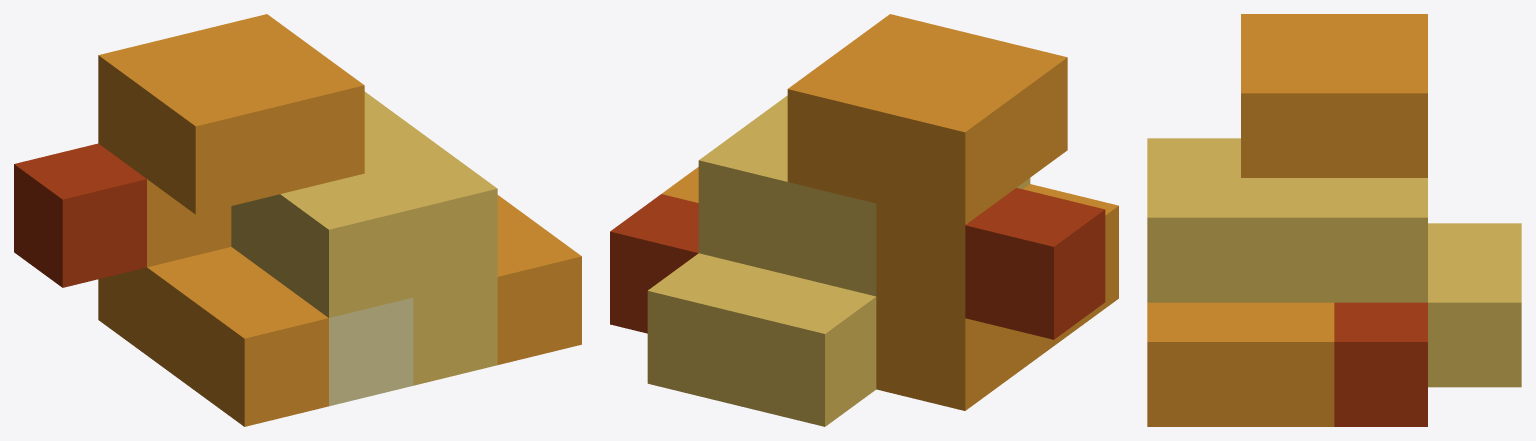
The model's file is flame_02.glb.
3 views of the same model, side by side, from view 1: azimuth 30°, elevation 25°; view 2: azimuth 150°, elevation 25°; view 3: azimuth 270°, elevation 25° (orthographic). The views are drawn at different scales.
Visible parts, largest first — view 1: flame_02; view 2: flame_02; view 3: flame_02.
Boxes of the visible parts, x1=… form: flame_02: x1=14, y1=14, x2=581, y2=426; flame_02: x1=610, y1=14, x2=1118, y2=426; flame_02: x1=1147, y1=14, x2=1521, y2=426.
Size of the model in its own units: 0.625 by 0.375 by 0.5.
